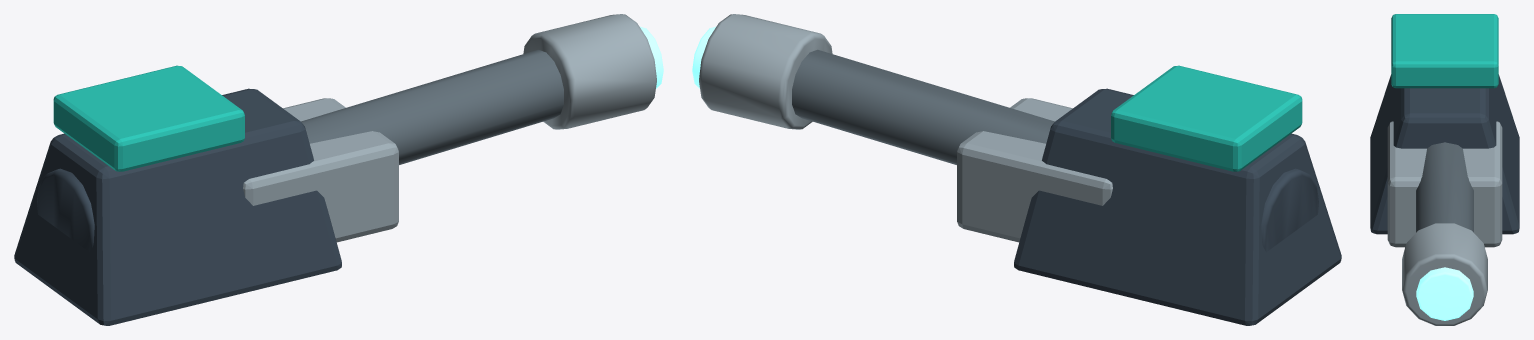
Rendered from SM_Ember_Weapon.fbx.
3 renders of one model, left to right at view 1: azimuth 30°, elevation 25°; view 2: azimuth 150°, elevation 25°; view 3: azimuth 270°, elevation 25°, orthographic. The views are drawn at different scales.
Visible parts, largest first — view 1: SM_Ember_Weapon; view 2: SM_Ember_Weapon; view 3: SM_Ember_Weapon.
Boxes of the visible parts, x1,y1,x2,y2 form: SM_Ember_Weapon: [14, 14, 663, 325]; SM_Ember_Weapon: [692, 14, 1341, 325]; SM_Ember_Weapon: [1370, 14, 1519, 325].
Bounding box in the file's own units: 24.74 × 6.68 × 6.86.
